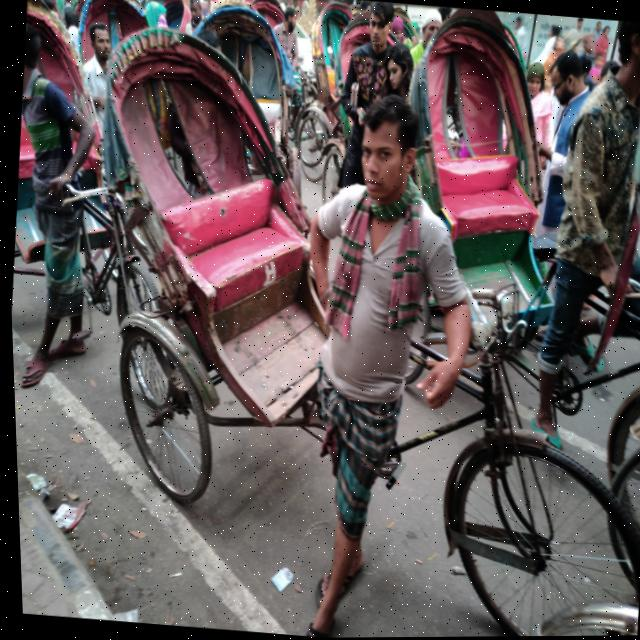rikshaw: (46, 1, 640, 630), (346, 0, 640, 411)
